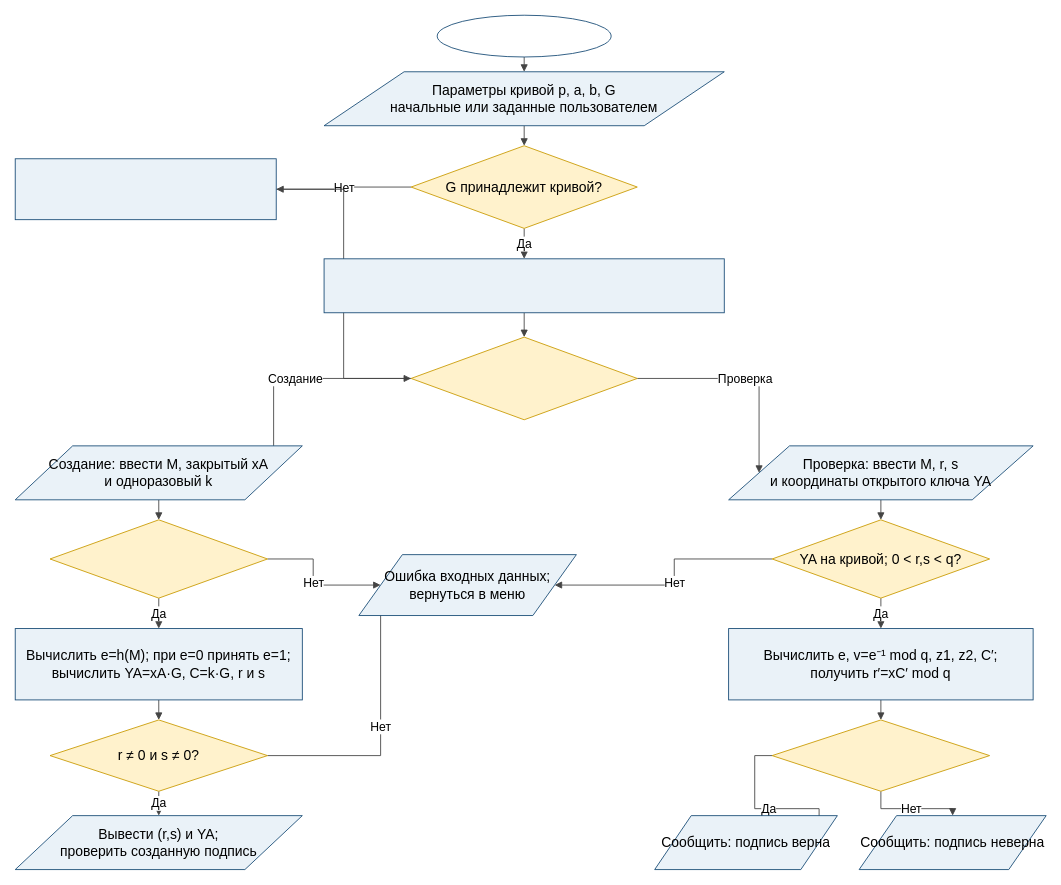
The diagram is 1061 pixels wide and 885 high, and some of its shapes have lost their labels. Here are the shapes that lost their labels. From the top down, the centre of each, then its label:
the point at 523,35: Начало
the point at 145,189: При ошибке восстановить параметры примера p=11, a=b=1, G=(0,1), q=7
the point at 523,285: Для заданной кривой вычислить порядок q точки G
the point at 523,378: Операция: создание или проверка подписи?
the point at 158,558: 0 < xA < q и 0 < k < q?
the point at 880,755: r′ = r?
